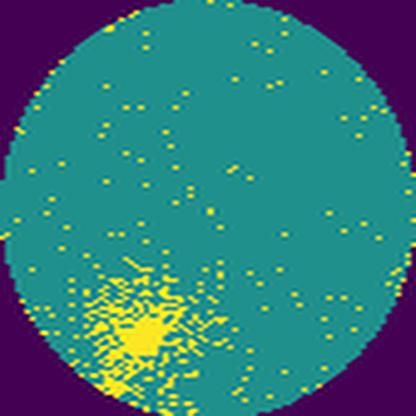Loc: (90, 273, 202, 398)
